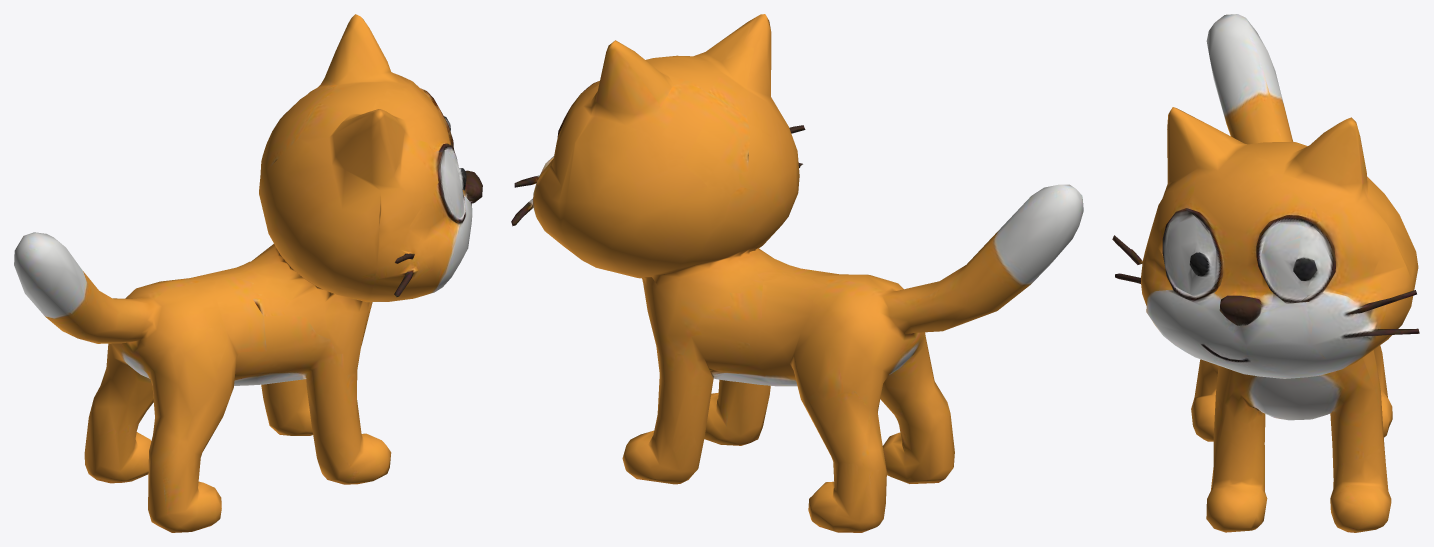
Rendered from SCRATCHC-lo.glb.
3 views of the same model, side by side, from view 1: azimuth 30°, elevation 25°; view 2: azimuth 150°, elevation 25°; view 3: azimuth 270°, elevation 25° (orthographic). The views are drawn at different scales.
Parts seen in each view (by area): view 1: tripo_node_3ed5d97e-5c80-4d3c-a0c6-e084f68d9d27; view 2: tripo_node_3ed5d97e-5c80-4d3c-a0c6-e084f68d9d27; view 3: tripo_node_3ed5d97e-5c80-4d3c-a0c6-e084f68d9d27.
Part boxes in pixels (x1,y1,x2,y2): tripo_node_3ed5d97e-5c80-4d3c-a0c6-e084f68d9d27: (14, 14, 482, 532); tripo_node_3ed5d97e-5c80-4d3c-a0c6-e084f68d9d27: (511, 14, 1083, 532); tripo_node_3ed5d97e-5c80-4d3c-a0c6-e084f68d9d27: (1112, 14, 1419, 532).
Size of the model in its own units: 1.2 by 0.9986 by 0.6418.
Materials: 1 (1 with a texture image).
